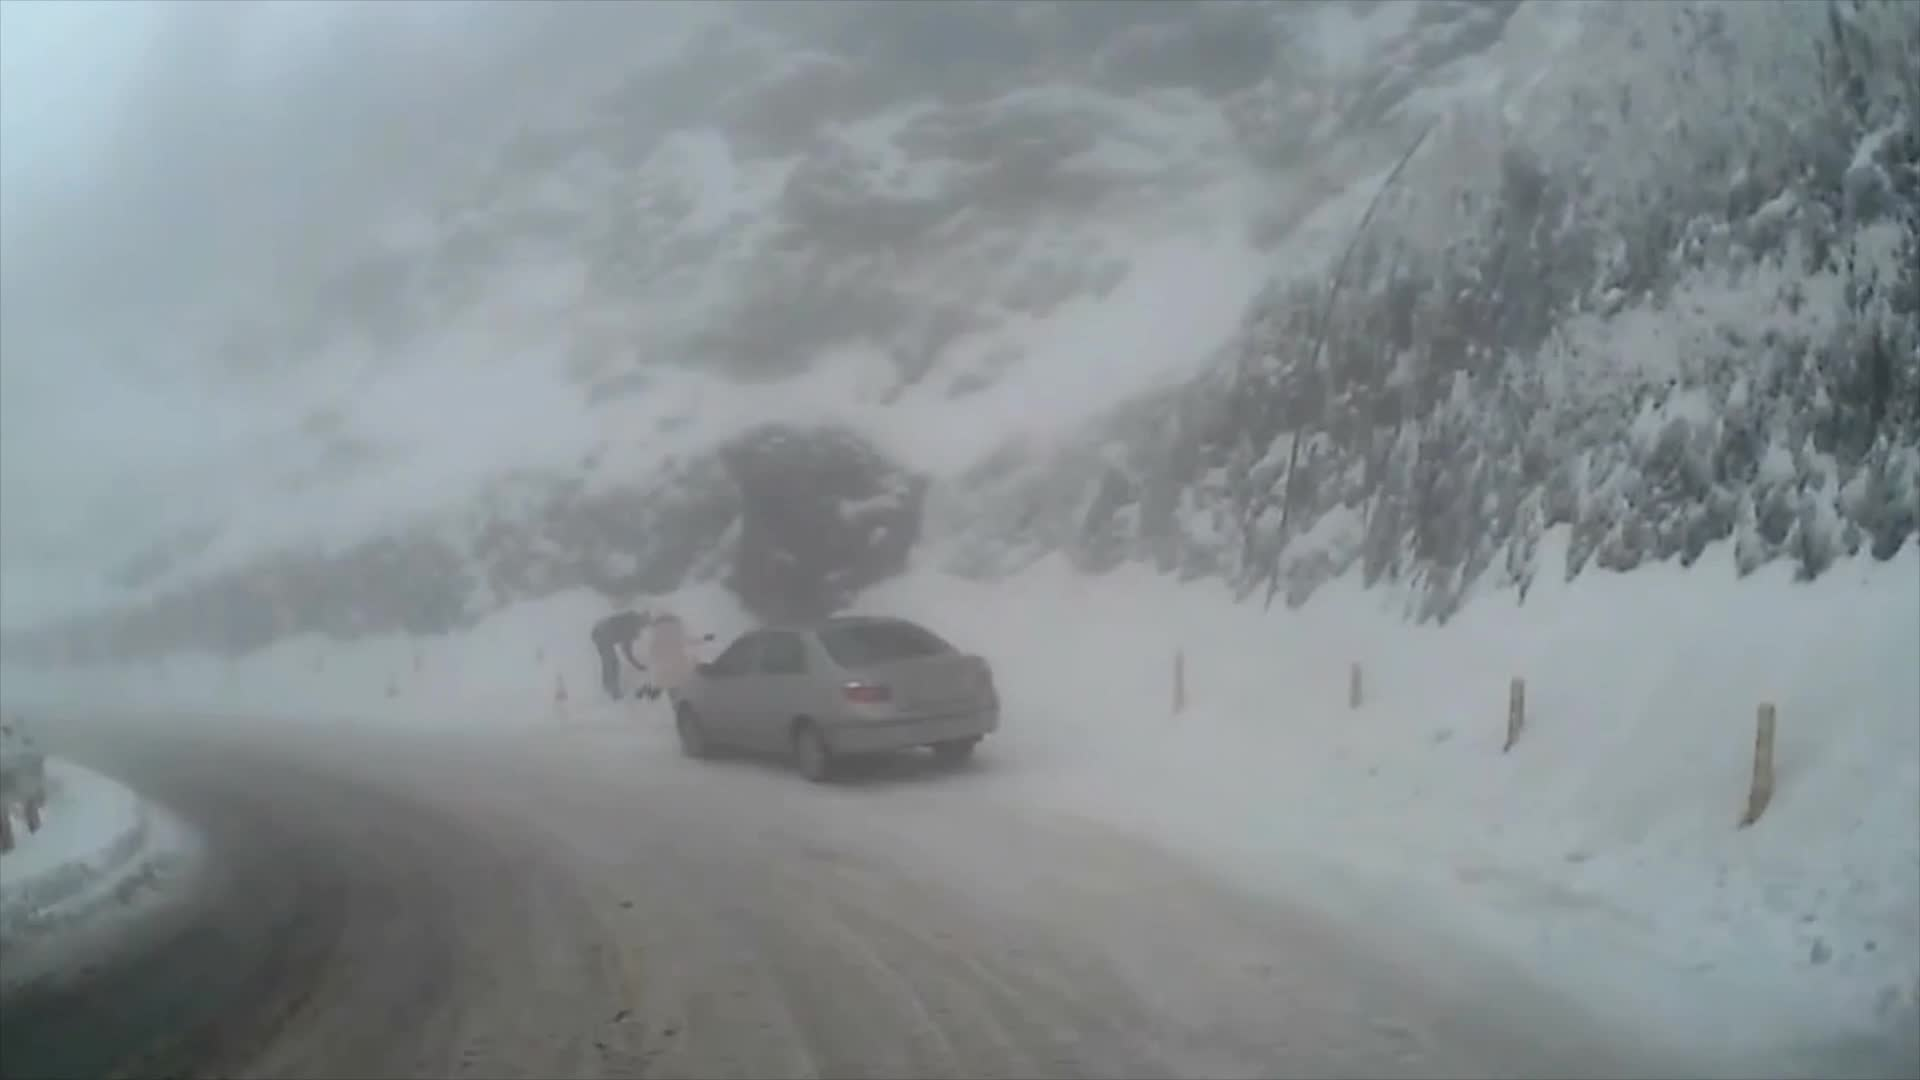pedestrian: (637, 600, 717, 730), (592, 609, 665, 705)
vehicle: (676, 615, 1002, 775)
